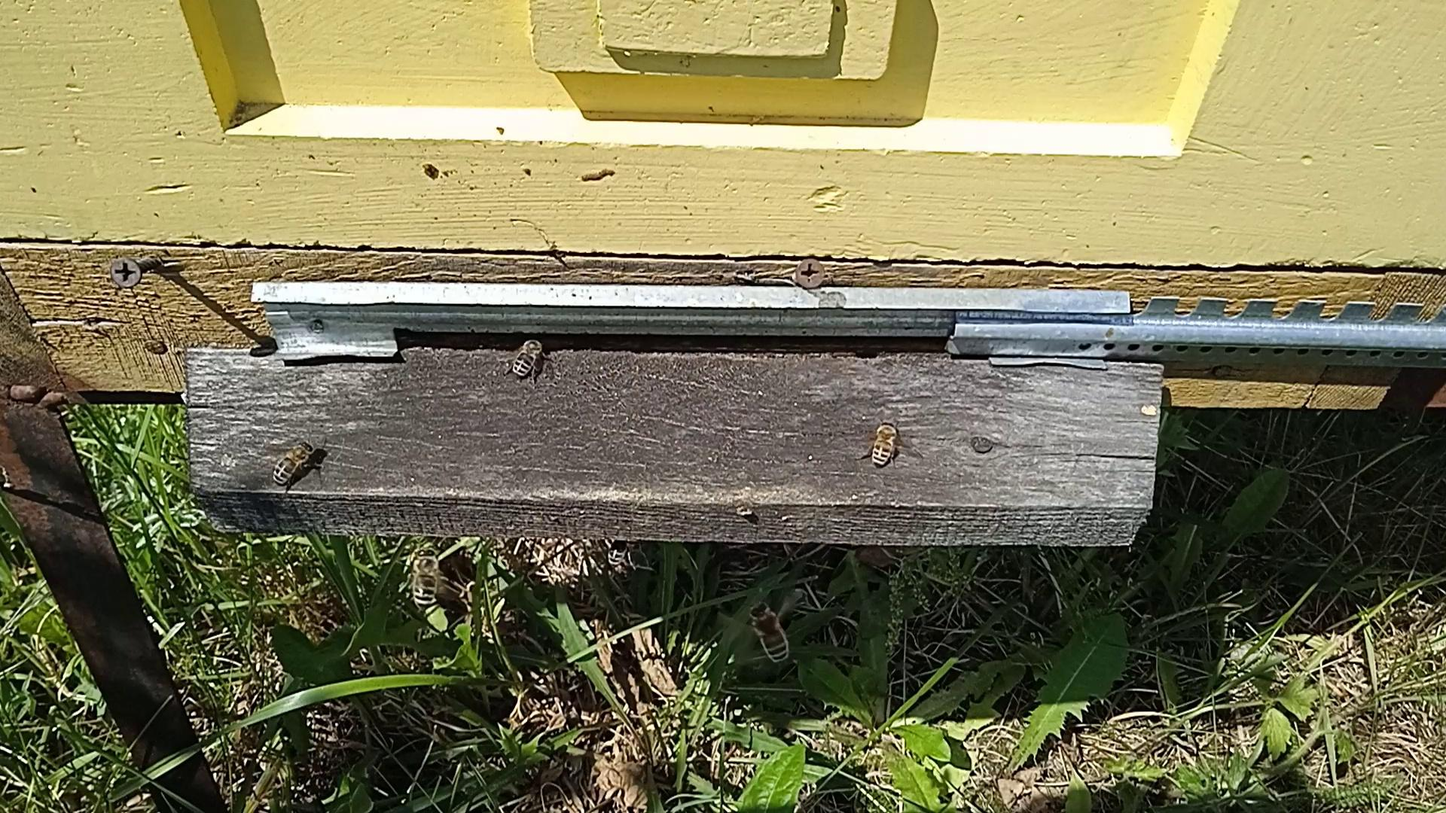worker-bee: (748, 603, 791, 665), (272, 440, 316, 486), (410, 547, 442, 610), (510, 336, 548, 379), (869, 419, 901, 468), (606, 541, 627, 566)
